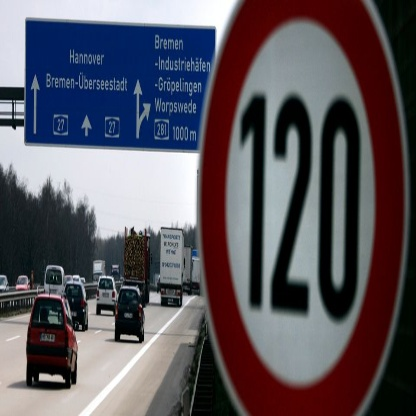limit2: (196, 1, 416, 411)
